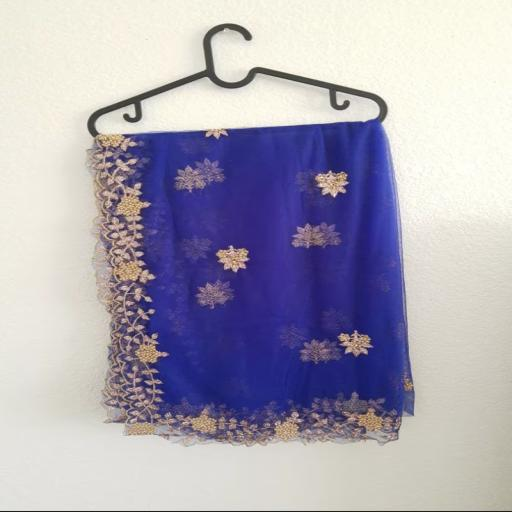Dupatta: (74, 117, 420, 455)
